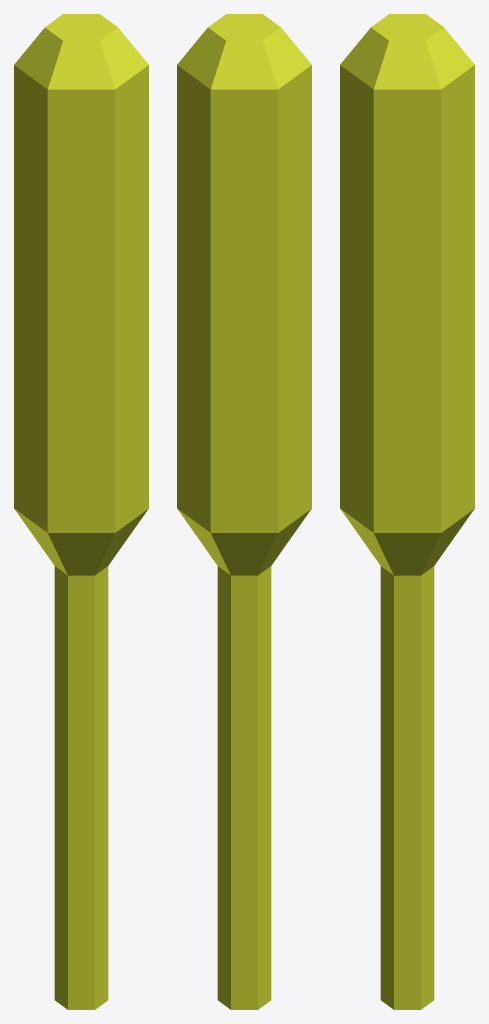
File: Crop_Test.fbx
The picture shows the model from 3 angles, left to right: view 1: azimuth 90°, elevation 25°; view 2: azimuth 150°, elevation 25°; view 3: azimuth 270°, elevation 25°; orthographic projection.
Visible parts, largest first — view 1: Circle.005, Circle.004; view 2: Circle.005, Circle.004; view 3: Circle.005, Circle.004.
Boxes of the visible parts, left/top/right/bottom form: Circle.005: left=14, top=14, right=148, bottom=575; Circle.004: left=54, top=566, right=108, bottom=1009; Circle.005: left=177, top=14, right=311, bottom=575; Circle.004: left=217, top=566, right=271, bottom=1009; Circle.005: left=340, top=14, right=474, bottom=575; Circle.004: left=380, top=566, right=434, bottom=1009.
Bounding box in the file's own units: 43.45 × 399 × 50.17.
